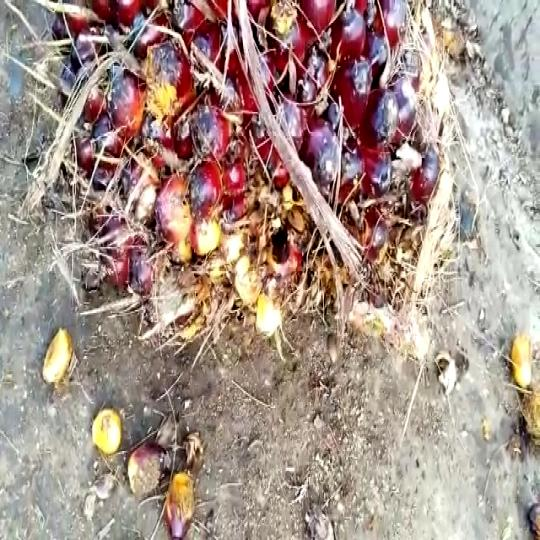kurang masak: (29, 0, 463, 342)
